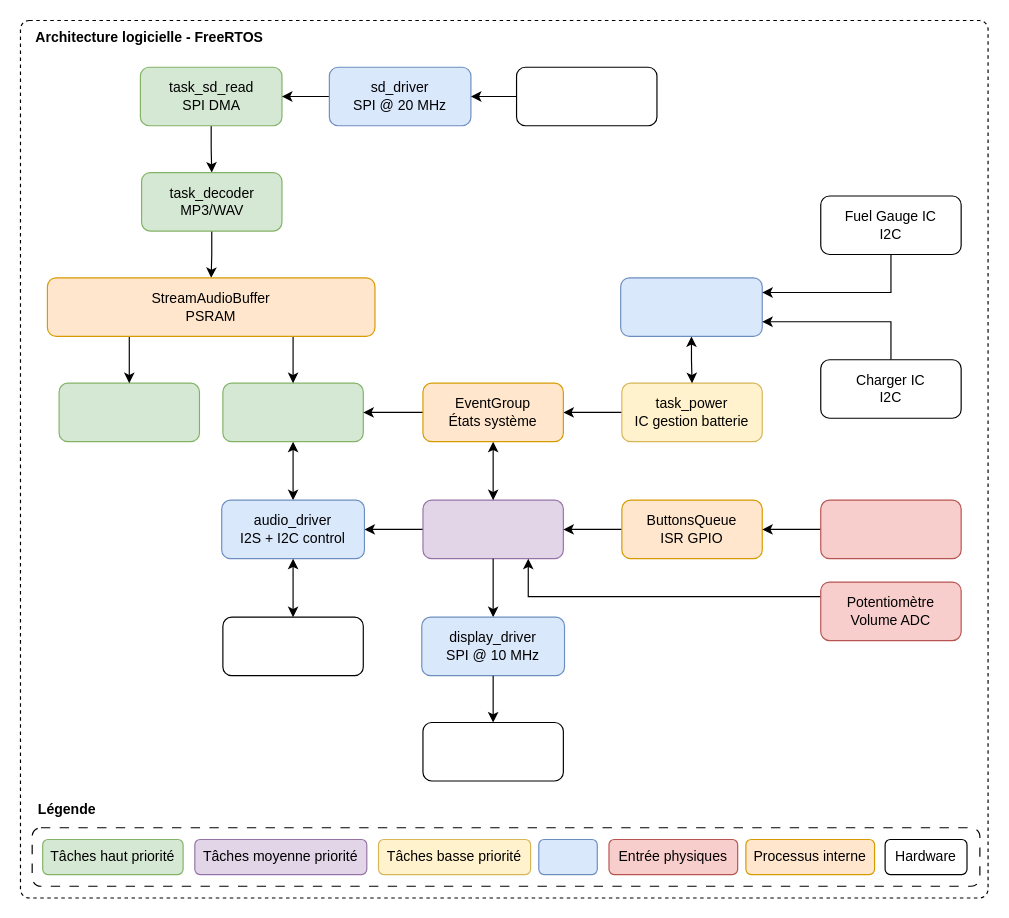
Some shapes in this 1009 by 918 pixel diagram are drawn without their labels. Here are the shapes that lost their labels. From the top down, the centre of each, then its label:
point 586,96: Carte SD WAV 48k/24b + MP3
point 691,306: power_driver I2C @ 400 kHz
point 128,412: task_bt_a2dp BT stack
point 292,412: task_audio I2S DMA
point 492,529: task_ui Écran + boutons
point 890,529: Boutons GPIO ISR
point 292,646: TAD5212 DAC + ampli Jack
point 492,751: NHD-1.91 OLED SPI 176x176
point 567,856: Drivers
